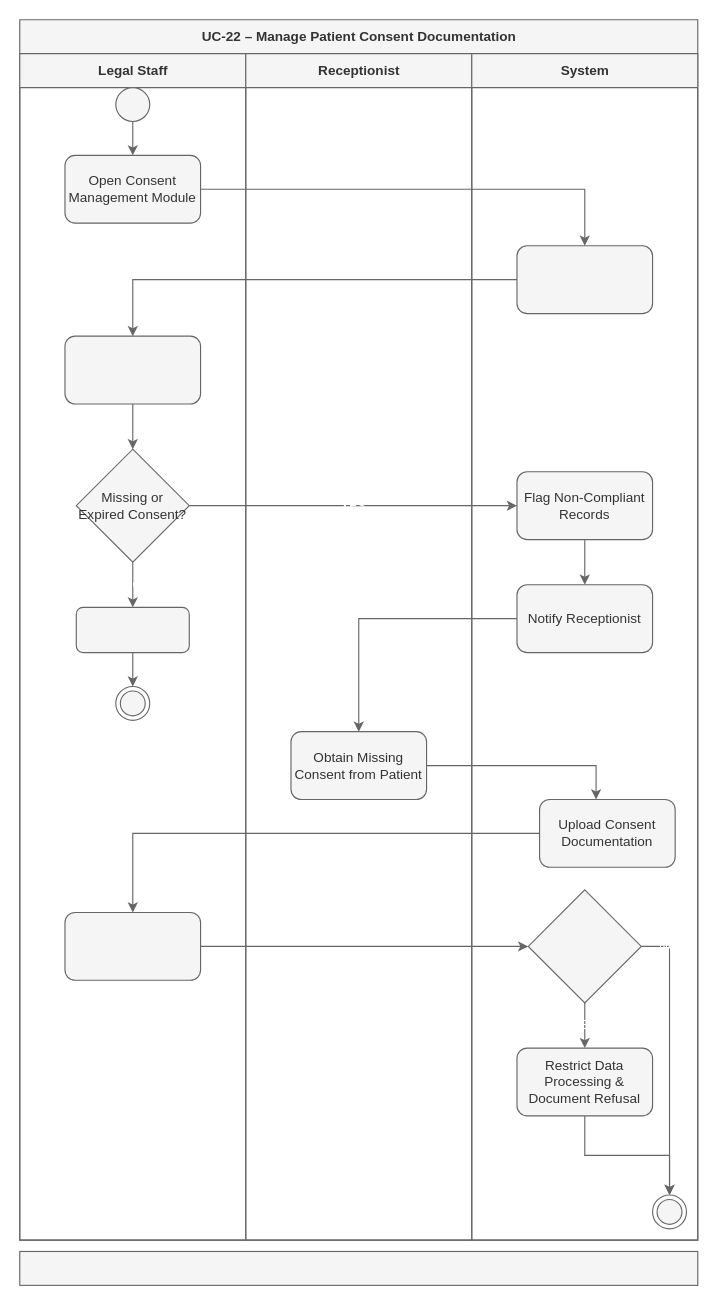
Some shapes in this 718 by 1305 pixel diagram are drawn without their labels. The centre of each missing label's shape, as x and y in pixels:
Close Review: the point at 132,629
Display Consent Statuses: Active Pending Expired: the point at 584,279
Patient Refuses Consent?: the point at 584,946
Postcondition: Consent documentation updated and compliance maintained.: the point at 358,1267
Review Consent Records: the point at 132,369
Update Compliance Status: the point at 132,945
